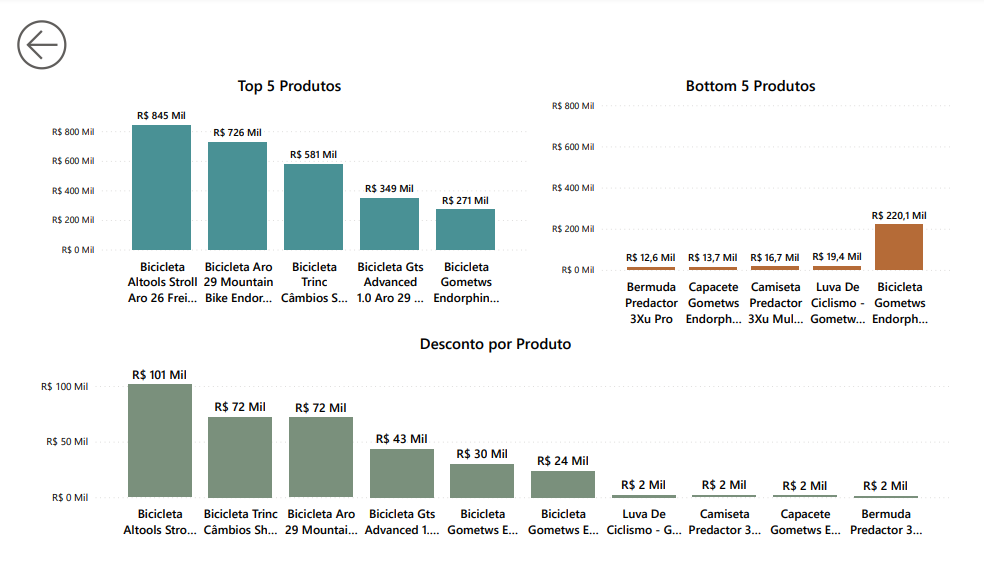

The page's visual inventory and layout, read from the dashboard file:
{"tool":"powerbi","page":{"name":"Produto","canvas":[1280,720],"ordinal":3},"visuals":[{"type":"actionButton","box":[0,0,151.2,82.1],"z":0},{"type":"clusteredColumnChart","title":"Top 5 Produtos","fields":{"Category":["Produtos.Produto"],"Y":["Sum(ItensVendas.ValorTotal)"]},"box":[49.1,81.3,643.4,314.9],"z":1000},{"type":"clusteredColumnChart","title":"Bottom 5 Produtos","fields":{"Category":["Produtos.Produto"],"Y":["Sum(ItensVendas.ValorTotal)"]},"box":[714.5,81.3,540.1,342],"z":2000},{"type":"clusteredColumnChart","title":"Desconto por Produto","fields":{"Category":["Produtos.Produto"],"Y":["Sum(ItensVendas.Desconto)"]},"box":[33.9,423.3,1220.7,281.1],"z":3000}]}

Visuals, with their boxes in screenshot pixels (x1, y1, x2, y2), scaled from the page's 1280x720 canvas onto the 984x563 screenshot:
actionButton: {"x1": 0, "y1": 0, "x2": 116, "y2": 64}
"Top 5 Produtos" clusteredColumnChart: {"x1": 38, "y1": 64, "x2": 532, "y2": 310}
"Bottom 5 Produtos" clusteredColumnChart: {"x1": 549, "y1": 64, "x2": 964, "y2": 331}
"Desconto por Produto" clusteredColumnChart: {"x1": 26, "y1": 331, "x2": 964, "y2": 551}
